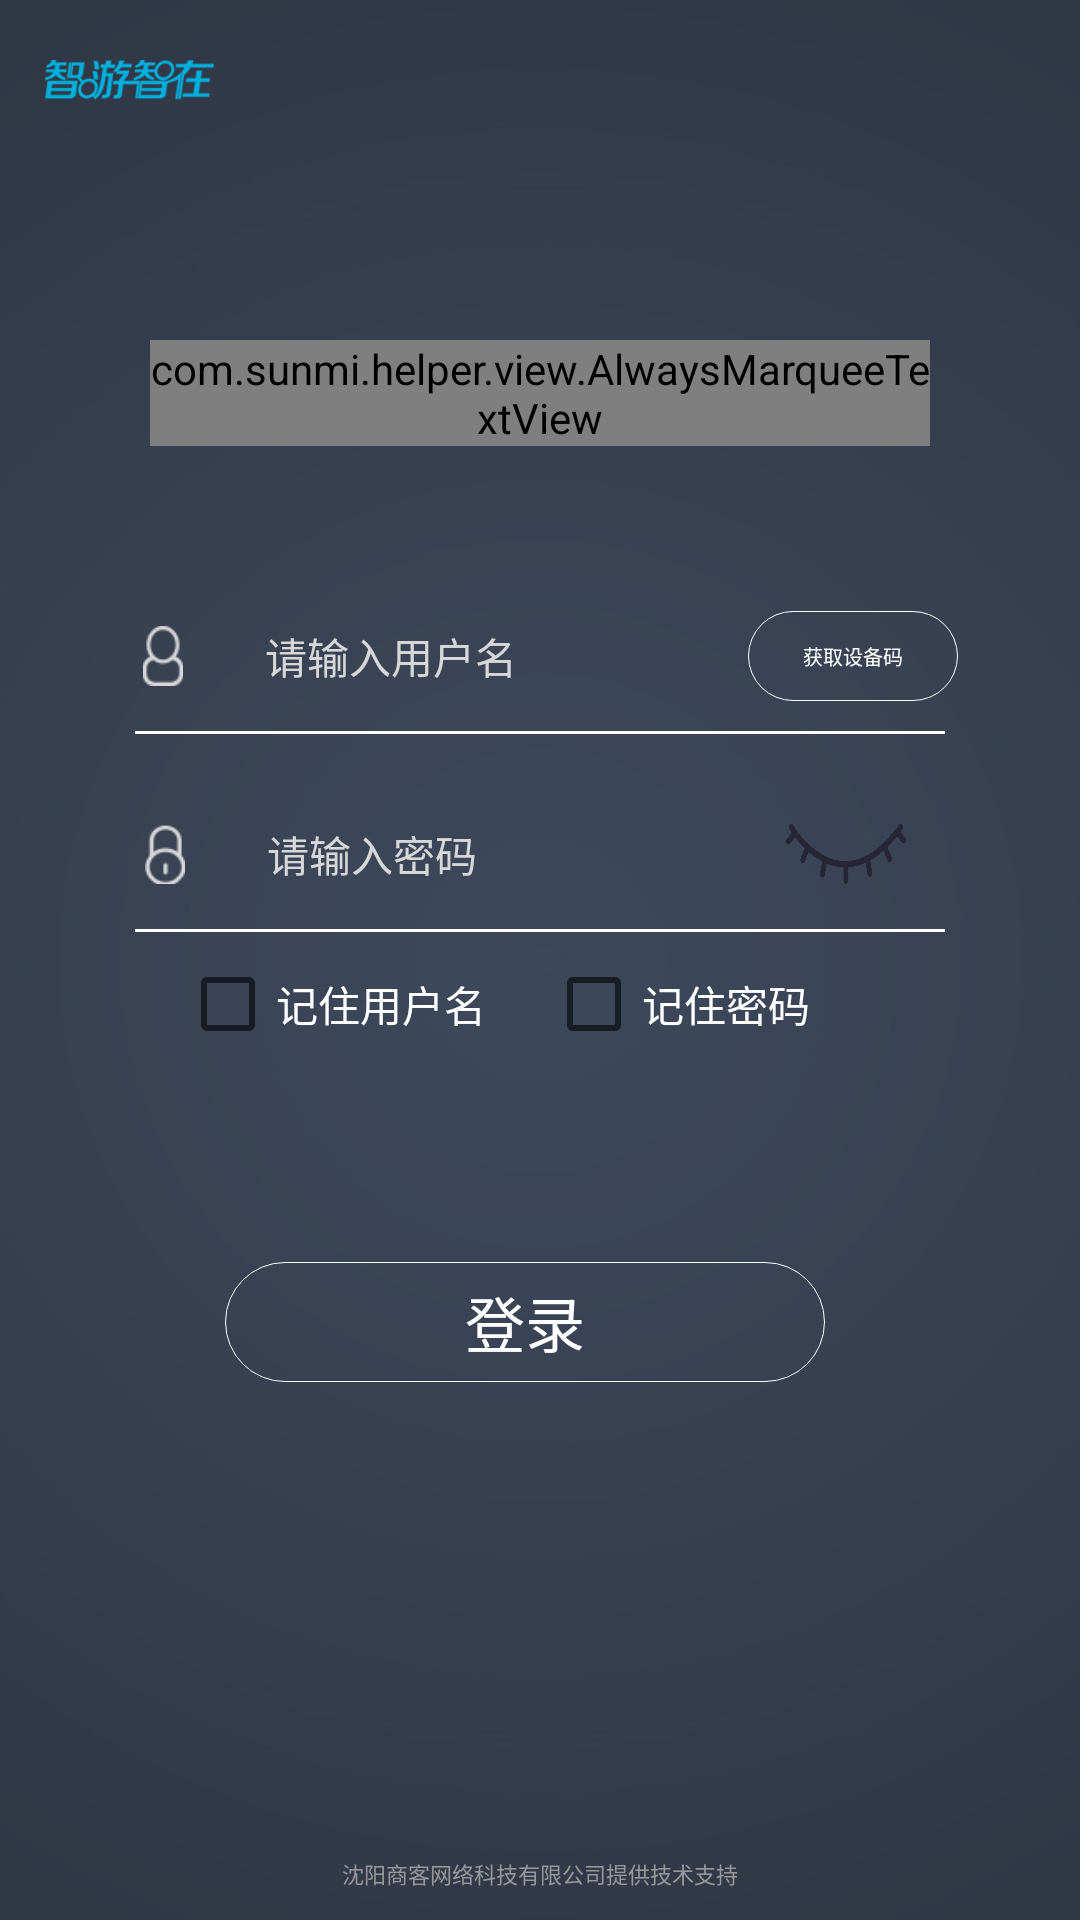

Screen size 1080x1920. Icon name, then its box in pixels as rect(x1, y1, x2, y2):
password: rect(145, 825, 185, 884)
user: rect(143, 626, 183, 686)
